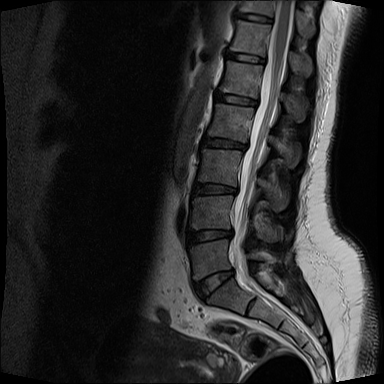Lumbar Disc Bulge (LDB): (189, 265, 240, 305), (184, 222, 238, 248), (197, 133, 252, 154), (189, 180, 242, 199), (212, 90, 262, 110)
Normal IVD: (222, 49, 269, 67), (232, 10, 276, 28)
Spinal Stenosis (SS): (227, 179, 245, 200), (237, 135, 252, 156), (248, 93, 264, 112), (224, 224, 239, 243), (227, 265, 238, 281)
